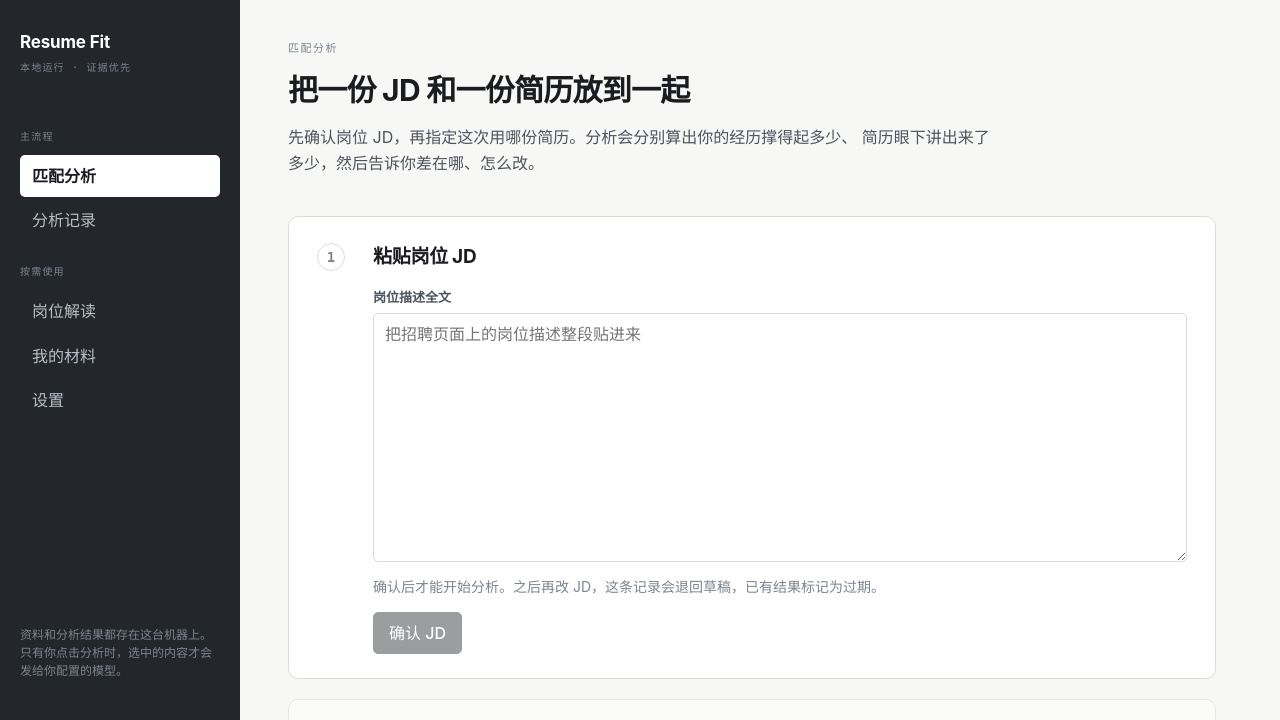
Test: history lists past analyses with both scores and no delivery status
This screenshot has width=1280, height=720.
Click the button "分析记录" at [120, 221], box x1=20 y1=199 x2=220 y2=242
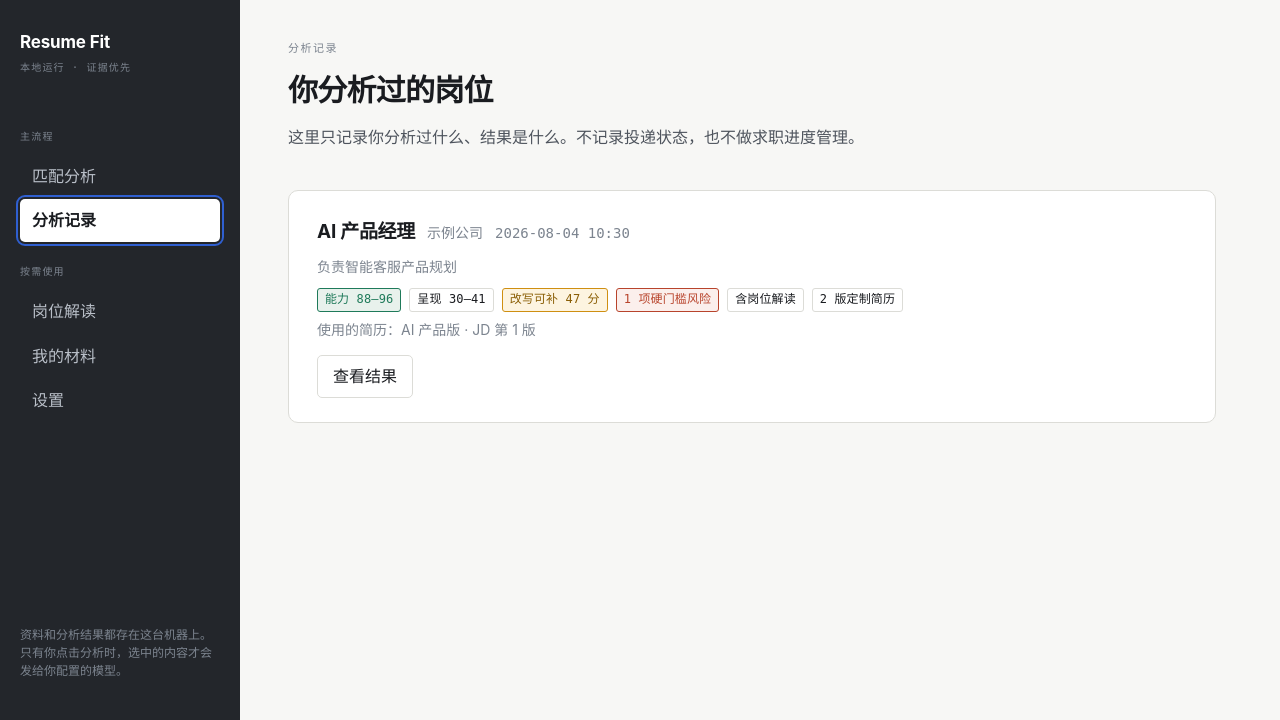
expect the heading "AI 产品经理" is shown: met, box x1=317 y1=216 x2=415 y2=247
expect the text "能力 88–96" is shown: met, box x1=317 y1=288 x2=401 y2=312
expect the text "呈现 30–41" is shown: met, box x1=409 y1=288 x2=494 y2=312
